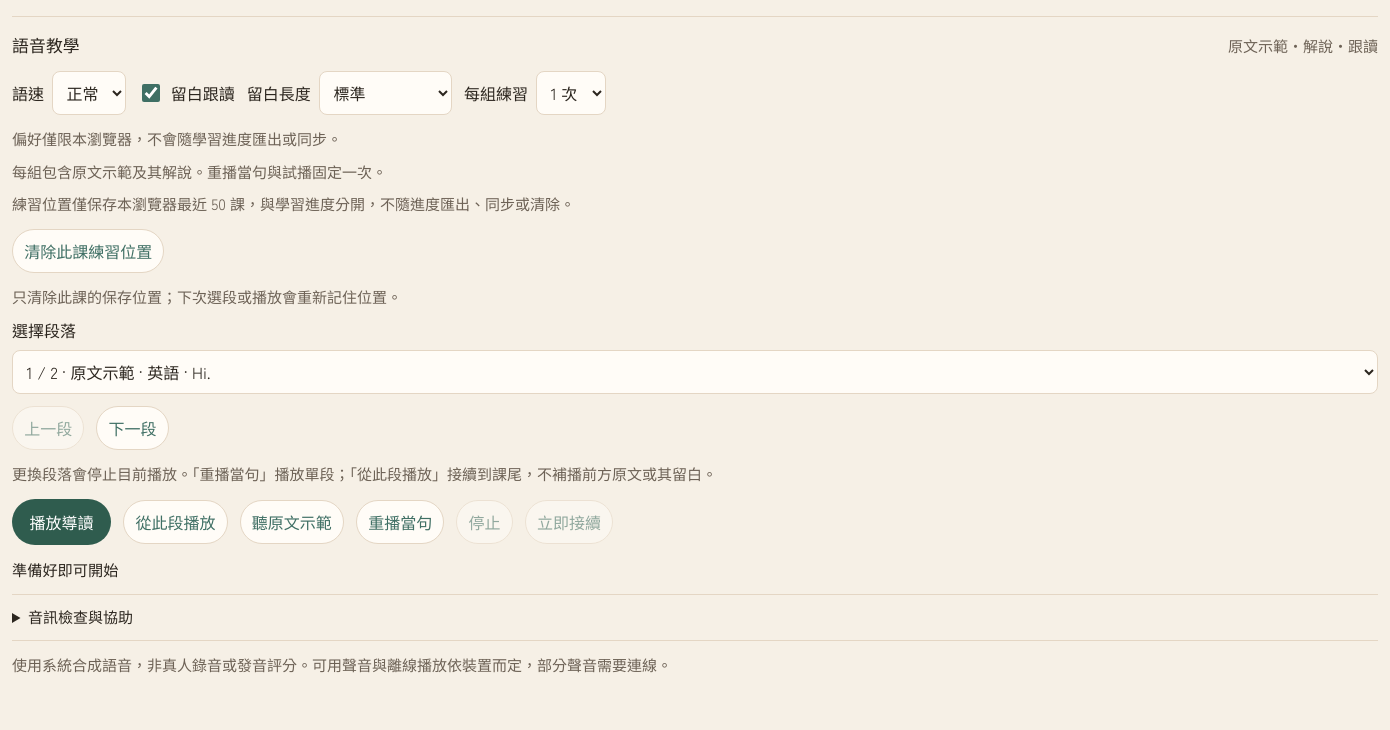
Test: 語音教學的真實元件互動 › 留白中更改設定會停止舊播放並清除倒數
Click the button "聽原文示範": (292, 522) [240, 500, 344, 544]
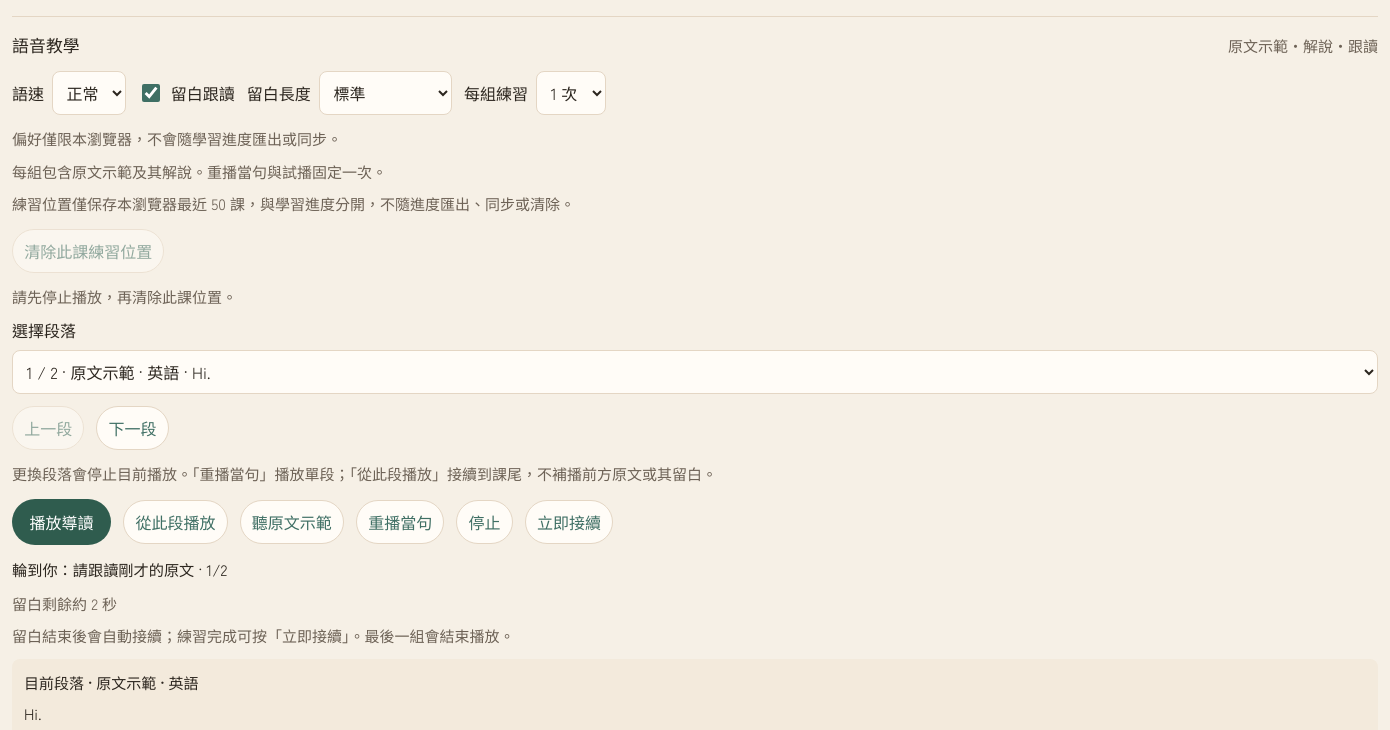
Check: the text "留白剩餘約 2 秒" is shown, box [12, 592, 117, 614]
Select "加長（2 倍）" in the dropdown labelled "留白長度": (385, 93) [319, 71, 452, 115]
Wait 5000 ms
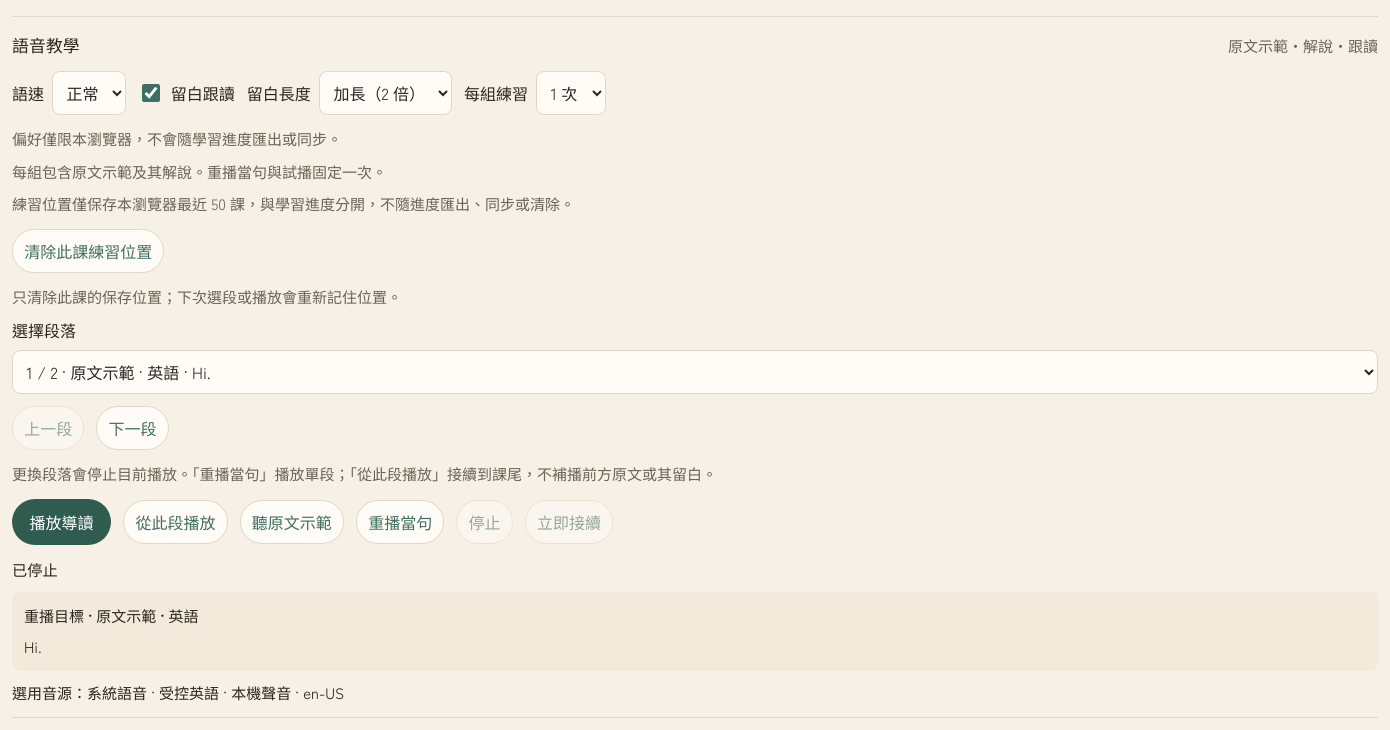
Check: the message with class "audio-lesson-status" reads "已停止", box [12, 558, 58, 580]
Check: the button "立即接續" is disabled, box [525, 500, 613, 544]
